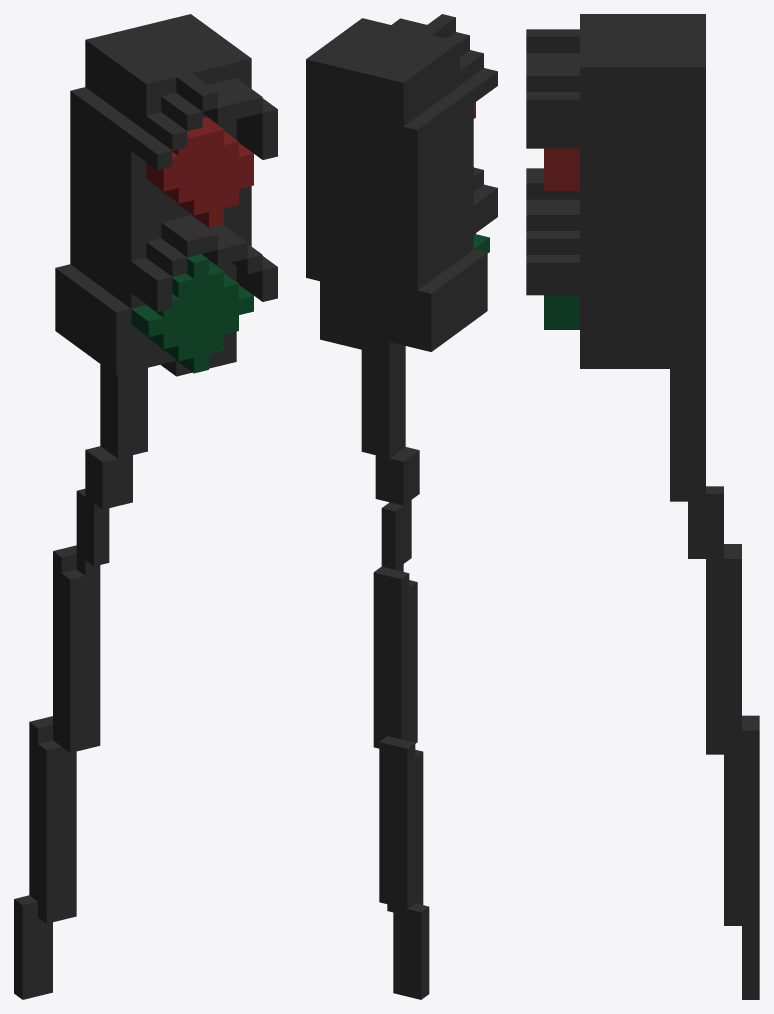
Rendered from Background_A_trafficlight_01.FBX.
The picture shows the model from 3 angles, left to right: view 1: azimuth 30°, elevation 25°; view 2: azimuth 150°, elevation 25°; view 3: azimuth 270°, elevation 25°; orthographic projection. The views are drawn at different scales.
Parts seen in each view (by area): view 1: Load_A-12; view 2: Load_A-12; view 3: Load_A-12.
Part boxes in pixels (x1,y1,x2,y2): Load_A-12: (14,14,277,999); Load_A-12: (306,14,497,999); Load_A-12: (526,14,759,999).
Size of the model in its own units: 1 by 6.1 by 1.3.
1 material, 1 textured.
